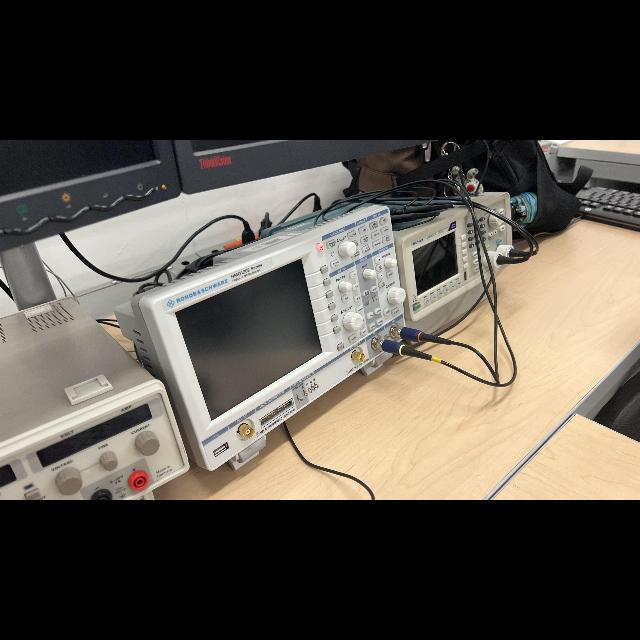Digital-Oscilloscope: (116, 205, 405, 470)
